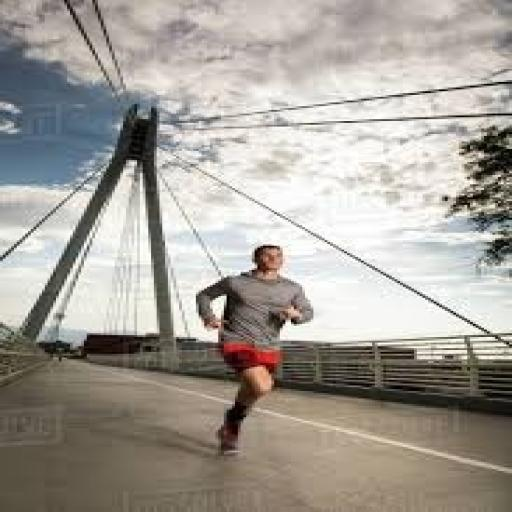running: (190, 242, 319, 458)
